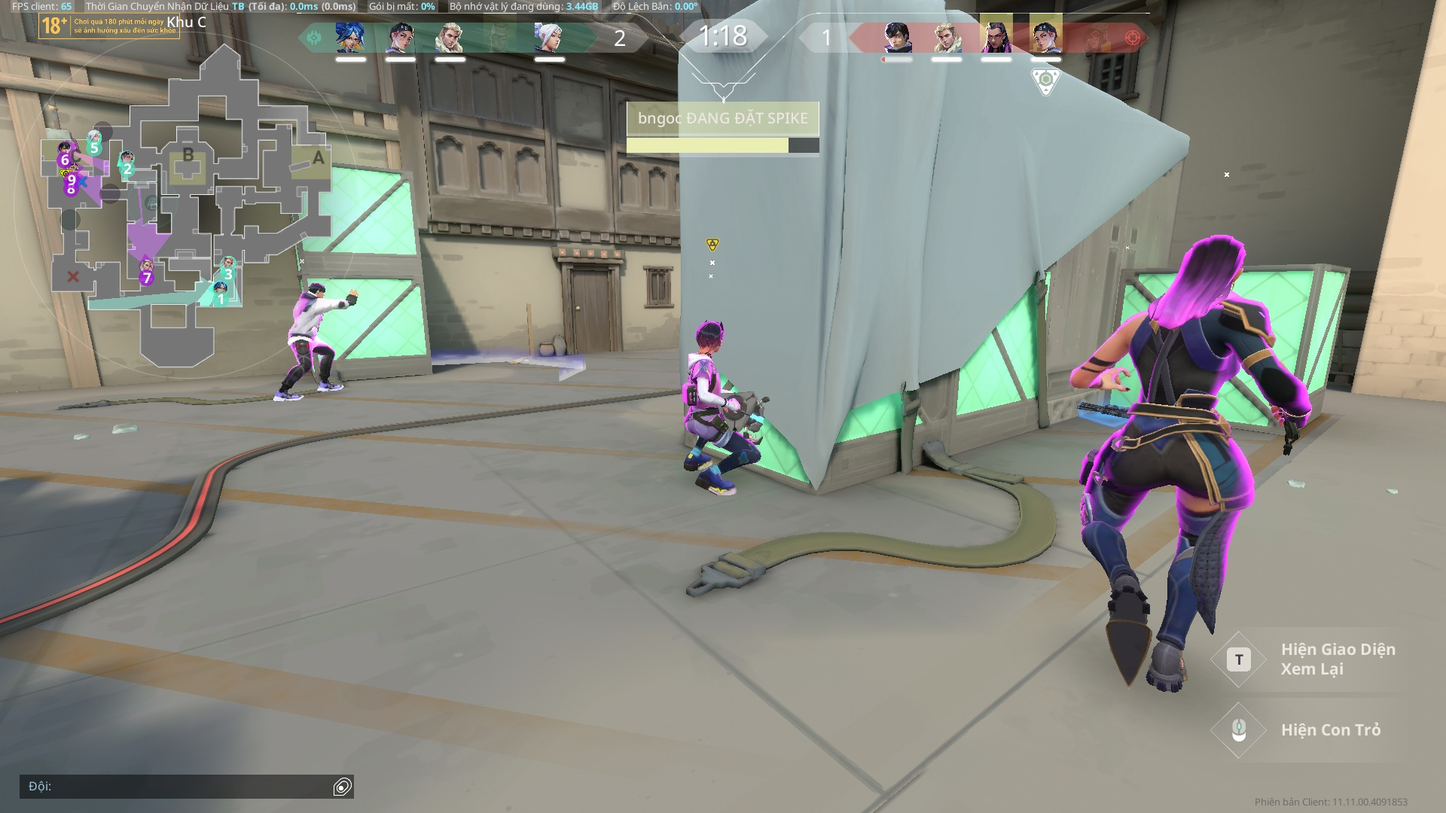body: (1118, 284, 1262, 413), (686, 352, 724, 410), (293, 293, 324, 336)
head: (1175, 227, 1250, 291), (697, 322, 727, 351), (307, 279, 325, 298)
